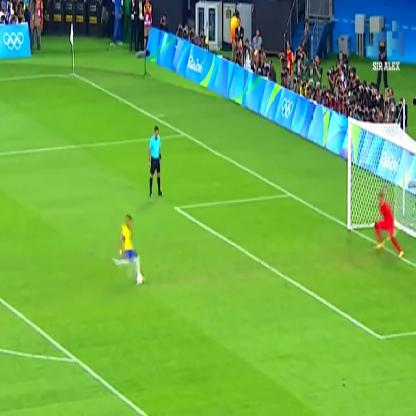penalty kick: (86, 90, 405, 307)
